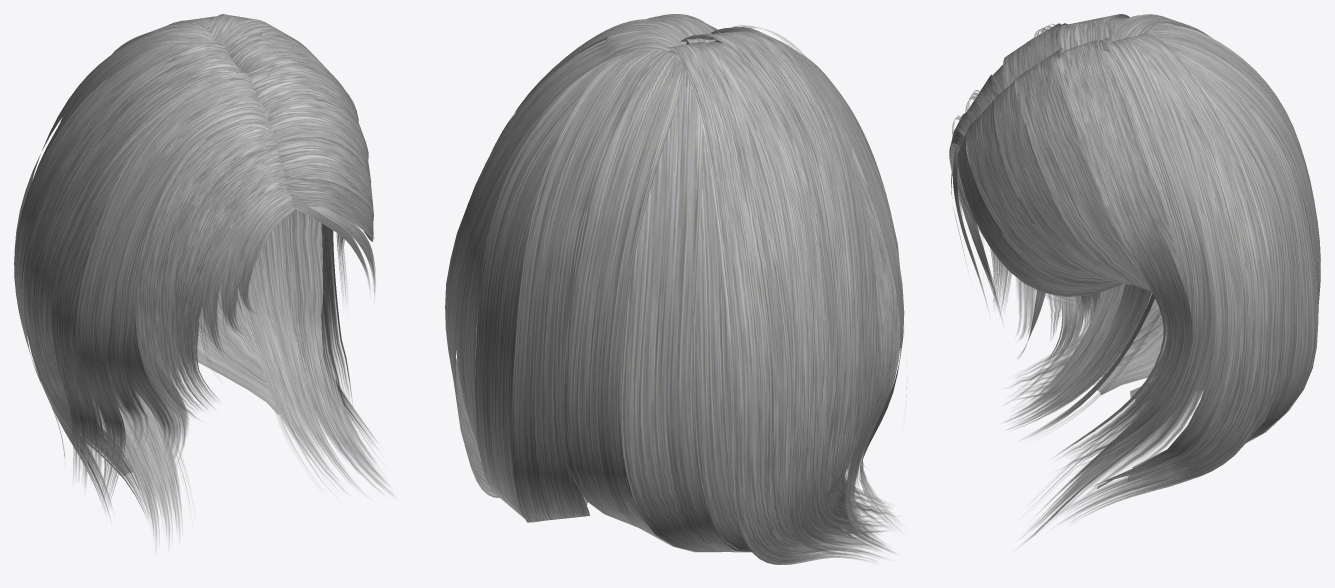
Rendered from Hair2.glb.
3 views of the same model, side by side, from view 1: azimuth 30°, elevation 25°; view 2: azimuth 150°, elevation 25°; view 3: azimuth 270°, elevation 25° (orthographic). The views are drawn at different scales.
Visible parts, largest first — view 1: Object_7; view 2: Object_7; view 3: Object_7.
Part boxes in pixels (box(x1,y1,x2,y2)): Object_7: box(14, 14, 394, 551); Object_7: box(445, 14, 906, 564); Object_7: box(949, 14, 1320, 547).
Bounding box in the file's own units: 0.5352 × 0.7397 × 0.5231.
5 materials, 5 textured.
